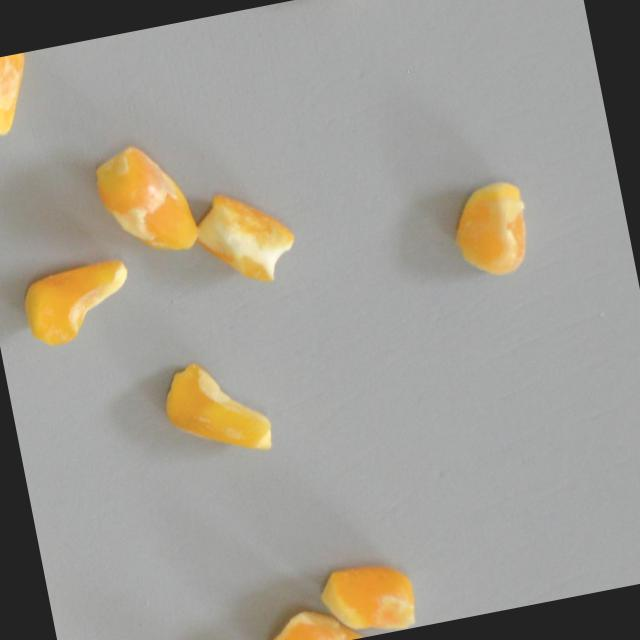dañado: (277, 0, 347, 13)
estandar: (8, 247, 149, 354), (187, 181, 303, 300)
pelicula: (87, 134, 202, 265), (154, 349, 275, 467), (441, 174, 539, 286), (312, 547, 428, 640), (0, 49, 56, 164), (252, 597, 377, 640)
